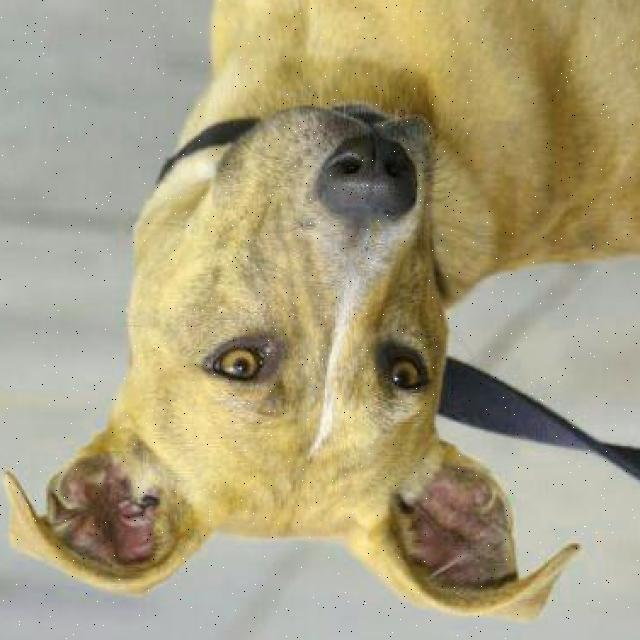Dog: (0, 92, 596, 628)
